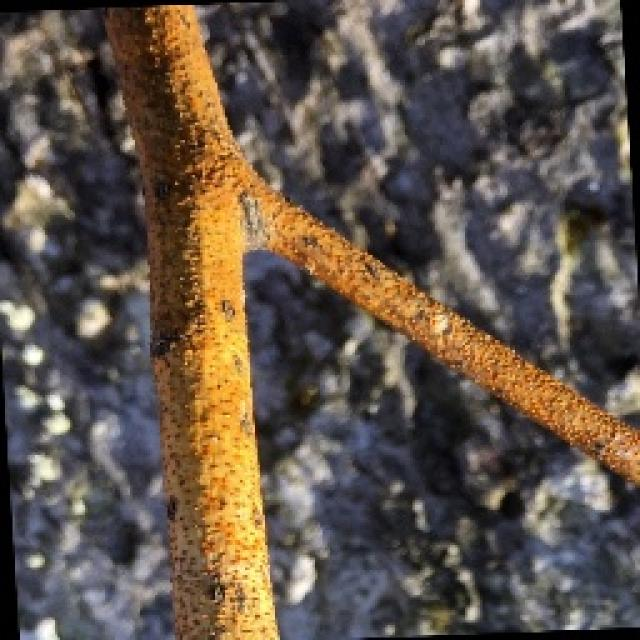Golden_canker: (95, 2, 637, 638)
